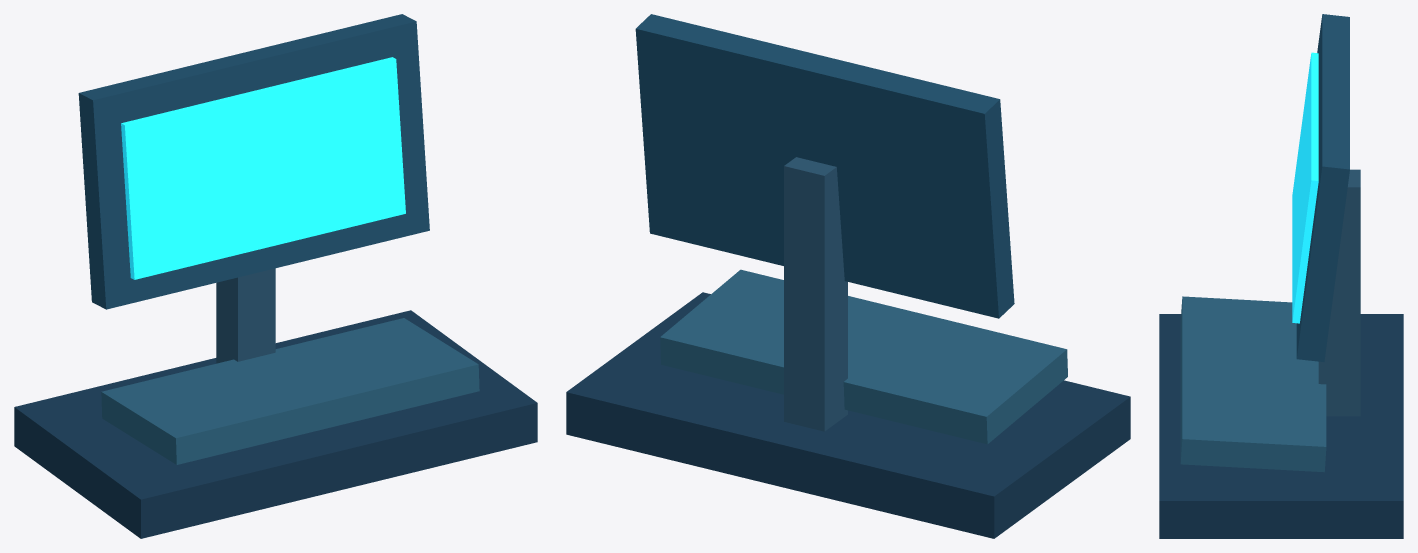
File: terminal-console.glb
3 renders of one model, left to right at view 1: azimuth 30°, elevation 25°; view 2: azimuth 150°, elevation 25°; view 3: azimuth 270°, elevation 25°, orthographic. The views are drawn at different scales.
Bounding box in the file's own units: 1.9 × 1.68 × 1.05.
